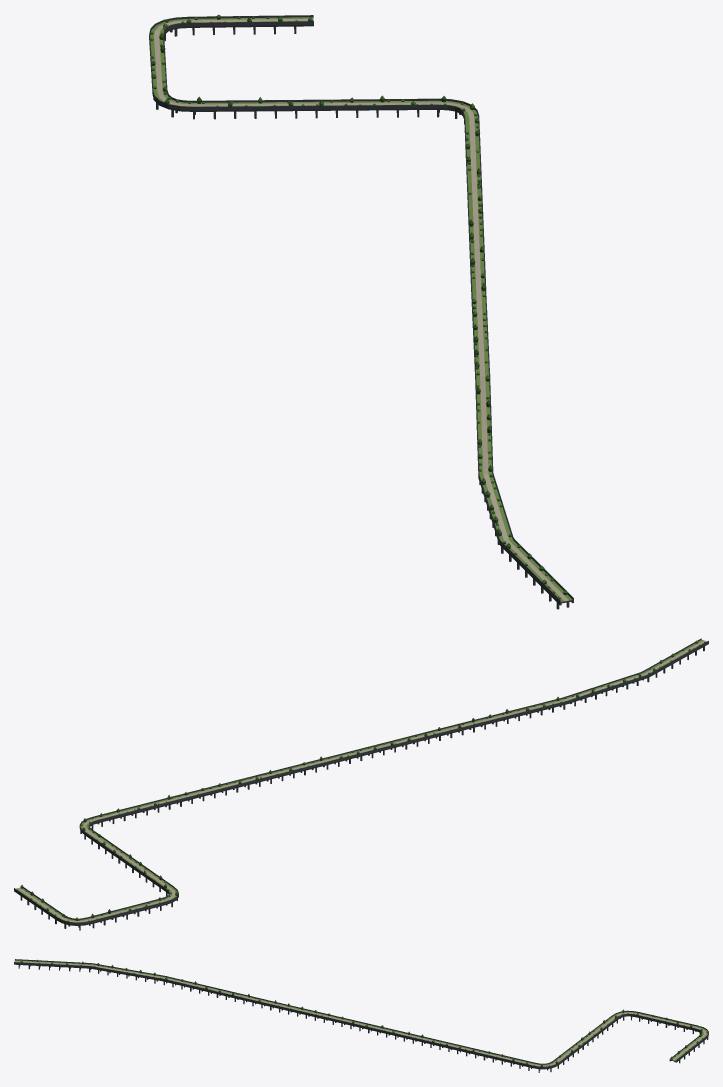
3 renders of one model, top to bottom at view 1: azimuth 30°, elevation 25°; view 2: azimuth 150°, elevation 25°; view 3: azimuth 270°, elevation 25°, orthographic. The views are drawn at different scales.
Parts seen in each view (by area): view 1: high-line-lod0; view 2: high-line-lod0; view 3: high-line-lod0.
Boxes of the visible parts, x1,y1,x2,y2 form: high-line-lod0: (149,14,573,609); high-line-lod0: (14,638,708,930); high-line-lod0: (14,959,708,1072).
Size of the model in its own units: 682 by 26.98 by 1857.
